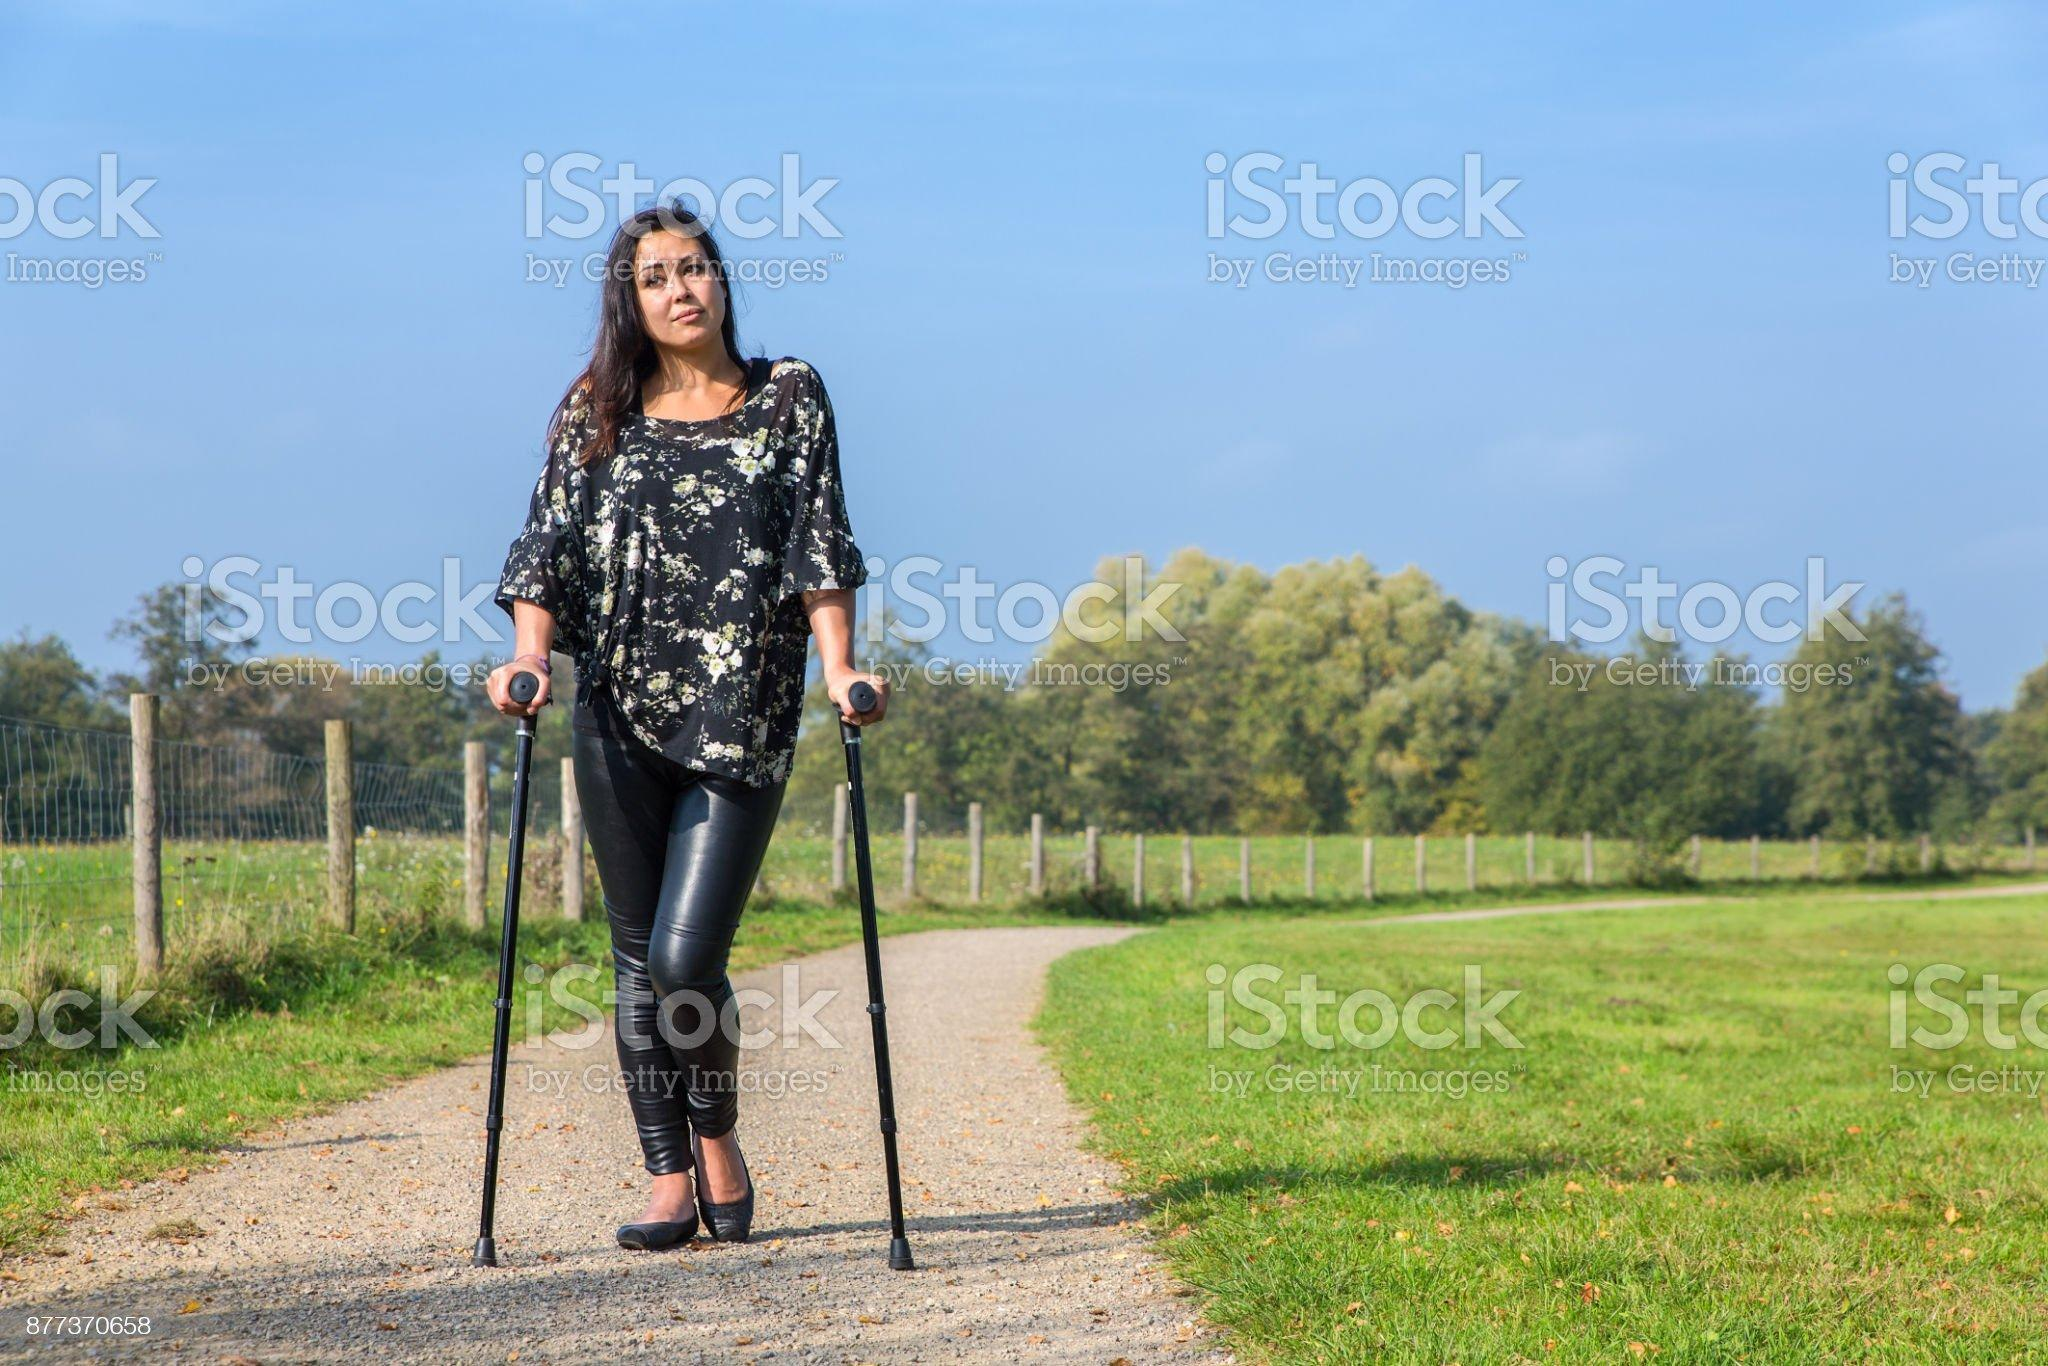crutches: (472, 212, 911, 1271)
